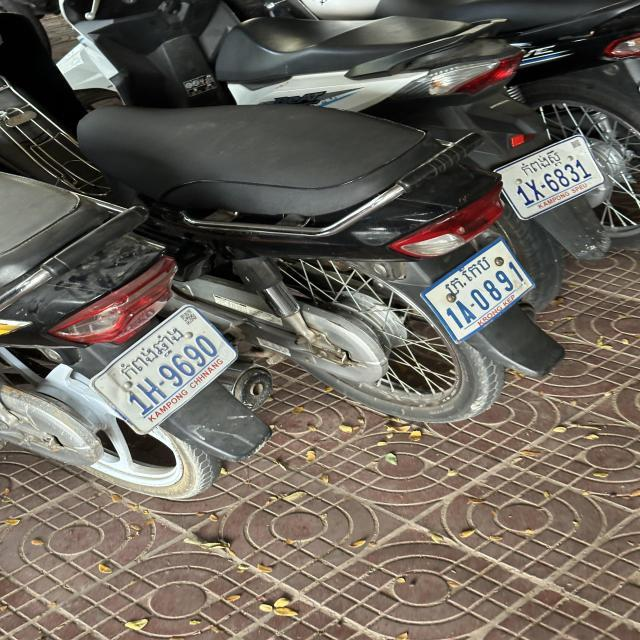Kampong_Chhnang: (117, 325, 182, 380)
Kampong_Speu: (521, 149, 564, 176)
Kep: (445, 256, 493, 297)
